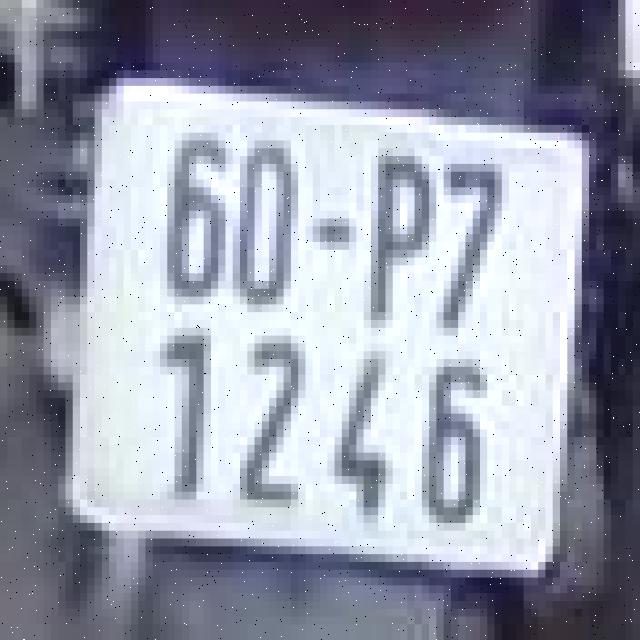0: (236, 133, 302, 320)
1: (149, 316, 215, 511)
2: (236, 324, 316, 519)
4: (327, 336, 415, 523)
6: (418, 344, 491, 546), (160, 125, 233, 304)
7: (432, 160, 512, 332)
P: (360, 140, 440, 336)
